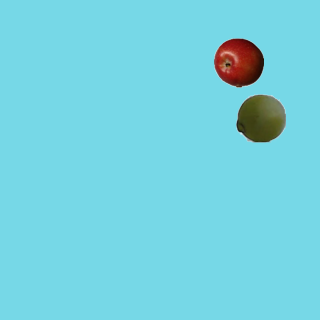Apple Braeburn: (213, 37, 263, 87)
Grape White 4: (235, 92, 285, 142)
